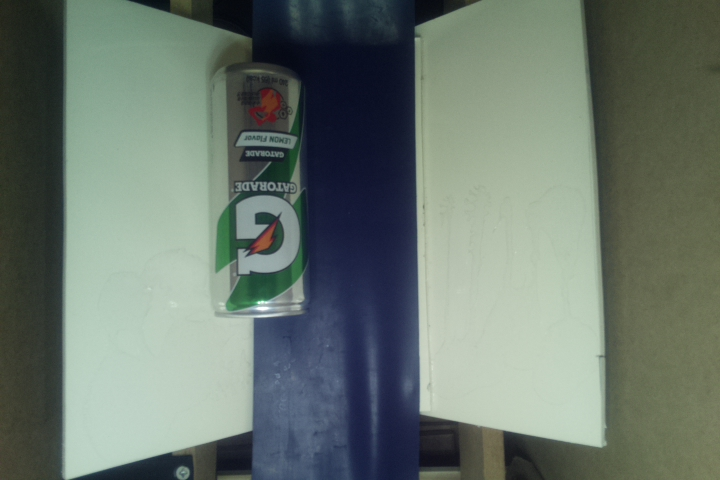can: (209, 62, 308, 317)
